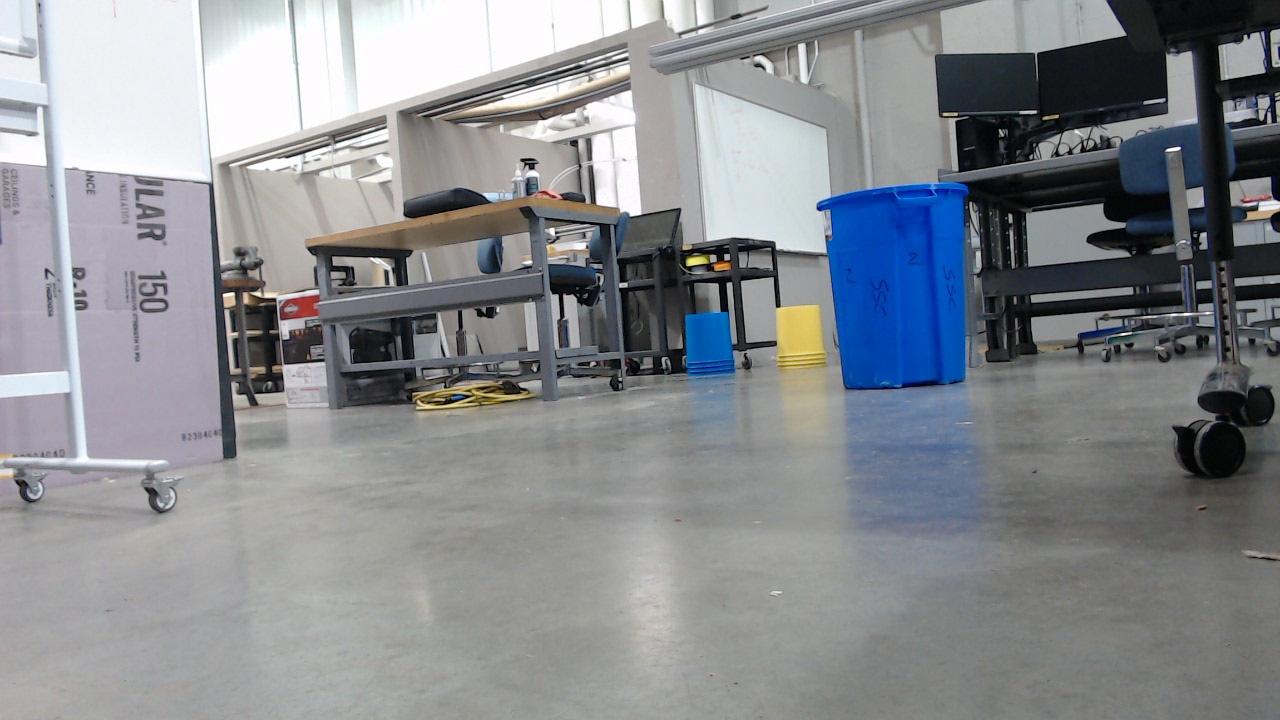blue_bucket: (686, 314, 745, 388)
yellow_bucket: (777, 307, 834, 378)
